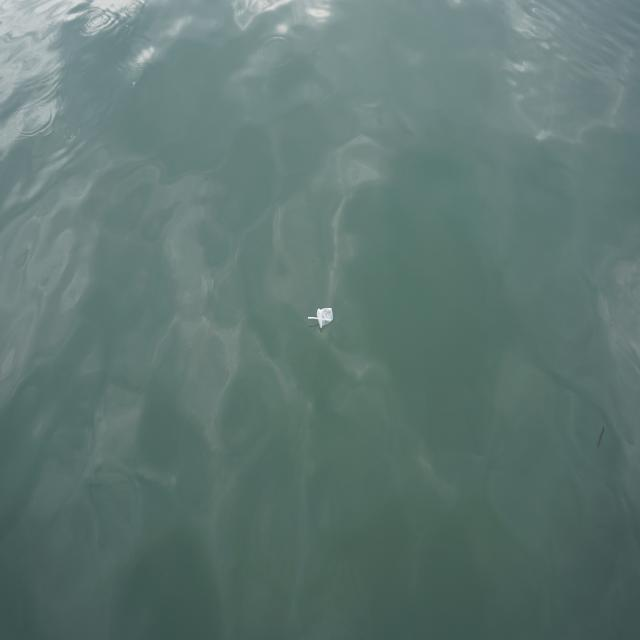Bungkus Minuman: (306, 302, 339, 337)
